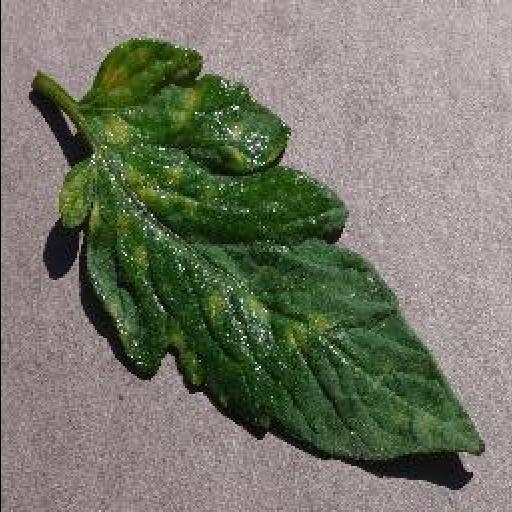disease_tomato: (61, 40, 491, 464)
